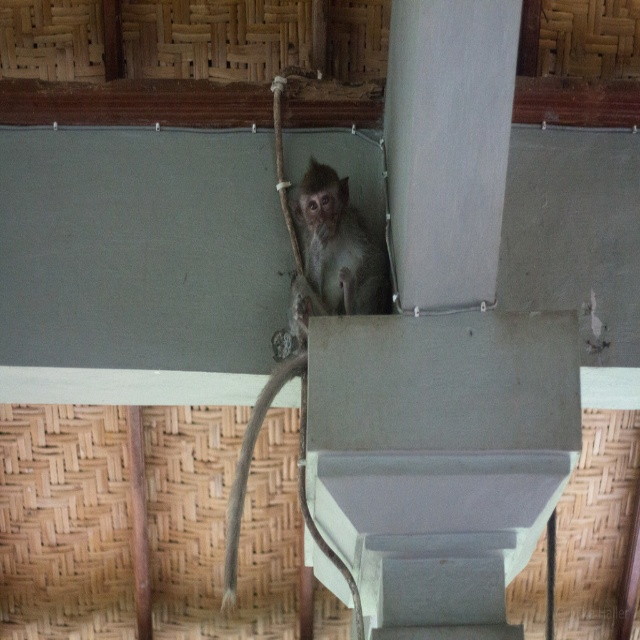Monkey: (223, 158, 390, 613)
